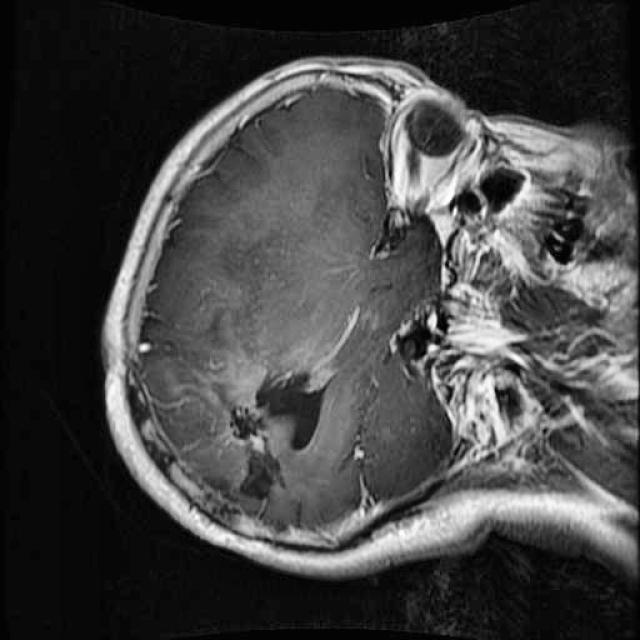Non-Tumor: (171, 335, 384, 550)
